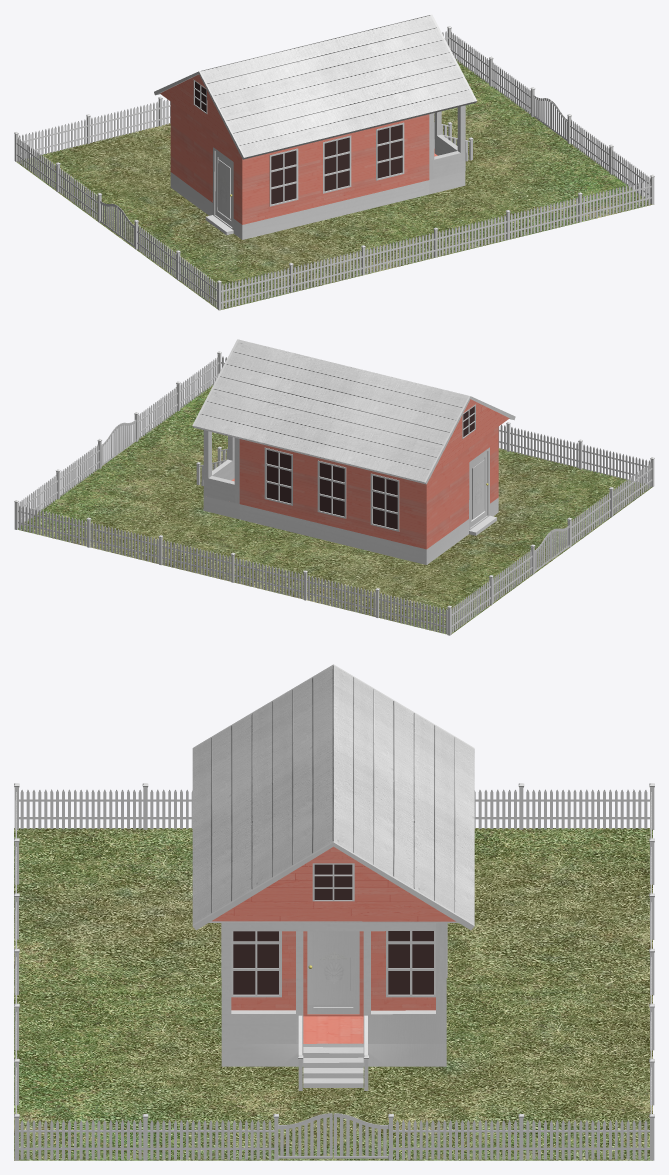
File: casa_baja.fbx
3 renders of one model, top to bottom at view 1: azimuth 30°, elevation 25°; view 2: azimuth 150°, elevation 25°; view 3: azimuth 270°, elevation 25°, orthographic. The views are drawn at different scales.
Visible parts, largest first — view 1: grass, roof, cottage_main, fence16, polySurface30, fence19, fence8, fence17, fence18, fence15, fence14, fence9 (+15 smaller); view 2: grass, roof, cottage_main, fence6, fence9, polySurface30, fence5, fence7, fence18, fence4, fence8, fence19 (+15 smaller); view 3: grass, roof, cottage_main, front_door.001, fence1, fence3, fence2, fence.001, fence10, fence13, front_entrance_left, front_entrance_right (+4 smaller).
Part boxes in pixels (bbox=[...]): grass: bbox=[16, 59, 653, 310]; roof: bbox=[154, 14, 476, 159]; cottage_main: bbox=[170, 102, 465, 239]; fence16: bbox=[437, 215, 507, 256]; polySurface30: bbox=[212, 147, 233, 229]; fence19: bbox=[221, 268, 290, 309]; fence8: bbox=[90, 101, 159, 142]; fence17: bbox=[365, 232, 435, 273]; fence18: bbox=[293, 250, 362, 291]; fence15: bbox=[510, 197, 579, 238]; fence14: bbox=[582, 180, 651, 220]; fence9: bbox=[19, 119, 87, 160]; grass: bbox=[18, 384, 652, 634]; roof: bbox=[192, 339, 515, 484]; cottage_main: bbox=[203, 427, 498, 564]; fence6: bbox=[162, 540, 231, 581]; fence9: bbox=[379, 593, 447, 633]; polySurface30: bbox=[469, 447, 489, 530]; fence5: bbox=[90, 522, 158, 563]; fence7: bbox=[234, 557, 303, 598]; fence18: bbox=[510, 427, 578, 467]; fence4: bbox=[18, 505, 86, 545]; fence8: bbox=[307, 575, 375, 616]; fence19: bbox=[582, 444, 650, 485]; grass: bbox=[14, 828, 652, 1160]; roof: bbox=[192, 664, 474, 930]; cottage_main: bbox=[221, 923, 446, 1087]; front_door.001: bbox=[307, 931, 359, 1014]; fence1: bbox=[147, 1120, 274, 1159]; fence3: bbox=[523, 1120, 649, 1159]; fence2: bbox=[393, 1120, 519, 1159]; fence.001: bbox=[19, 1120, 143, 1159]; fence10: bbox=[523, 789, 649, 828]; fence13: bbox=[19, 789, 143, 828]; front_entrance_left: bbox=[278, 1113, 332, 1159]; front_entrance_right: bbox=[333, 1113, 388, 1159].
Size of the model in its own units: 18900 by 5998 by 15372.
